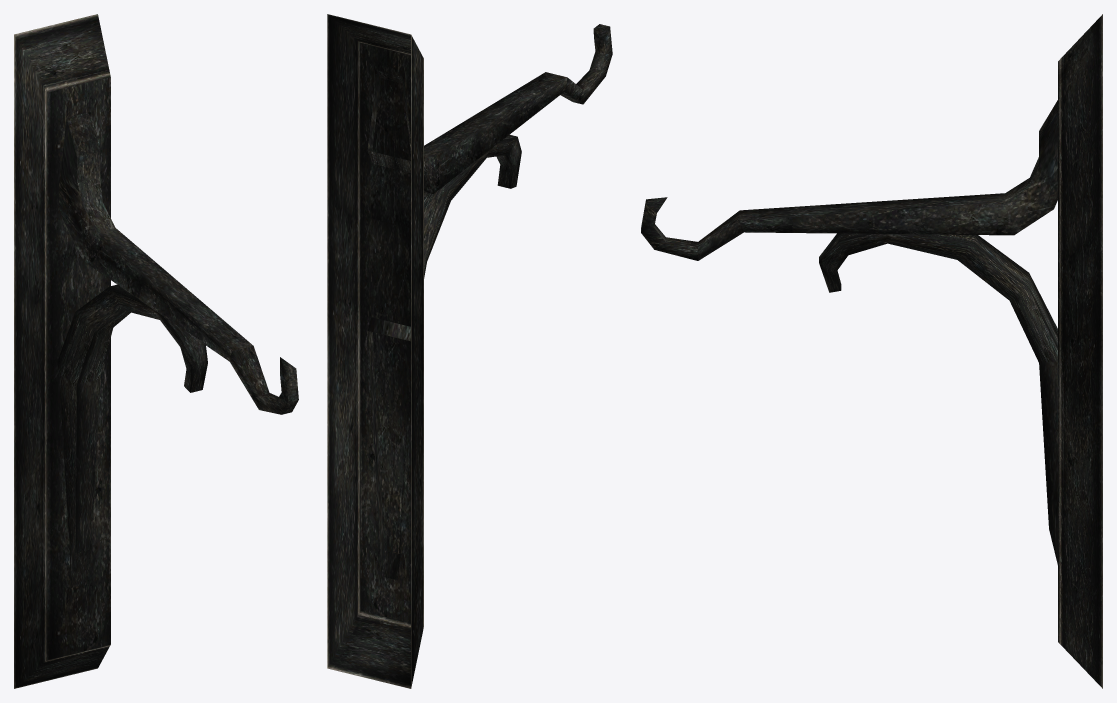
File: furn_com_lantern_hook.dae
The picture shows the model from 3 angles, left to right: view 1: azimuth 30°, elevation 25°; view 2: azimuth 150°, elevation 25°; view 3: azimuth 270°, elevation 25°; orthographic projection. The views are drawn at different scales.
Visible parts, largest first — view 1: nifid_2-matrix; view 2: nifid_2-matrix; view 3: nifid_2-matrix.
Boxes of the visible parts, x1,y1,x2,y2 form: nifid_2-matrix: (14, 14, 298, 688); nifid_2-matrix: (327, 14, 612, 688); nifid_2-matrix: (641, 14, 1102, 688).
Bounding box in the file's own units: 4.76 × 23.37 × 35.46.
Materials: 1 (1 with a texture image).
